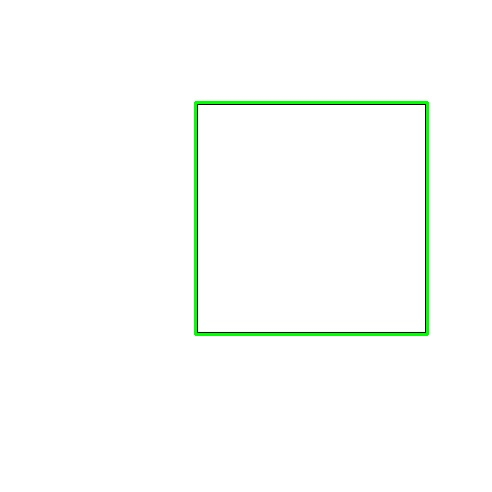line_segment: (194, 101, 429, 336)
